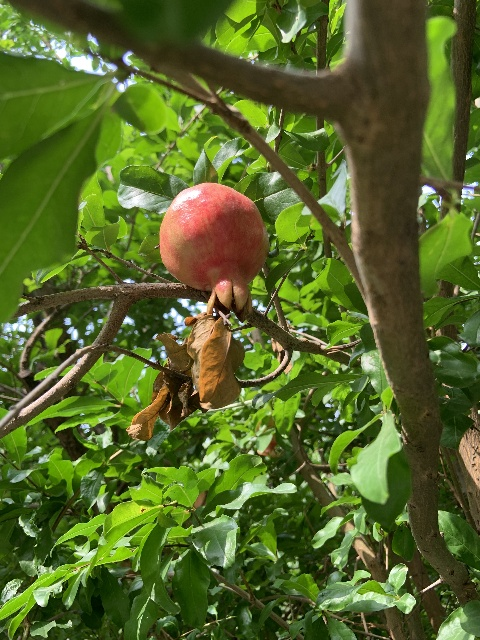ripe: (159, 182, 269, 322)
